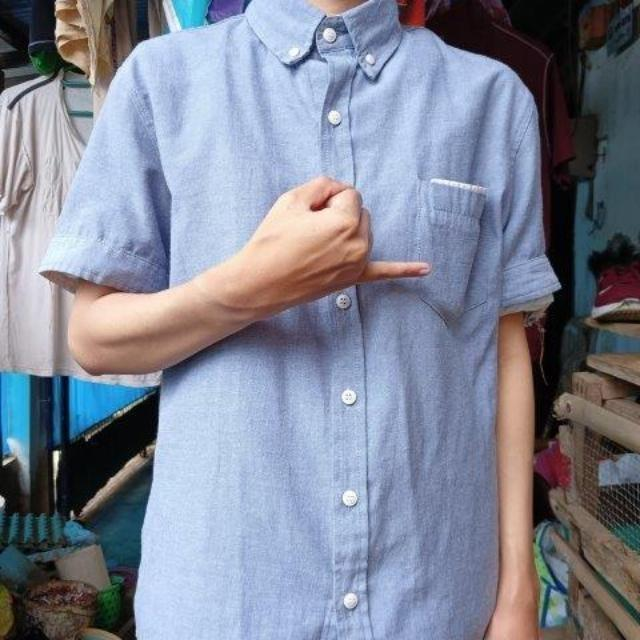J: (284, 170, 434, 310)
